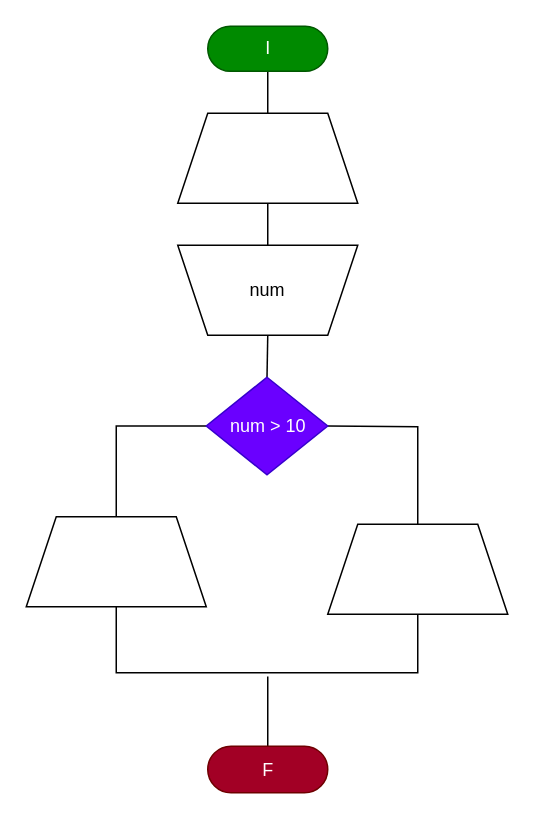
Some shapes in this 534 by 819 pixel diagram are drawn without their labels. Each missing label, with the centre of its shape:
"Es menor a 10": (417,568)
"Ingrese un numero": (267,157)
